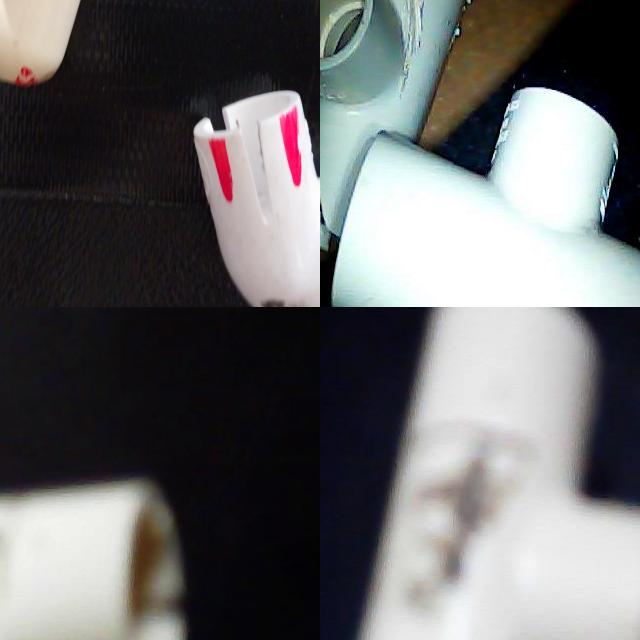Defective: (395, 419, 541, 640), (99, 581, 192, 640), (115, 32, 159, 101), (320, 89, 337, 236)
L Joint: (0, 475, 192, 640), (30, 0, 170, 128)
T Joint: (353, 307, 640, 640), (330, 89, 640, 307)
